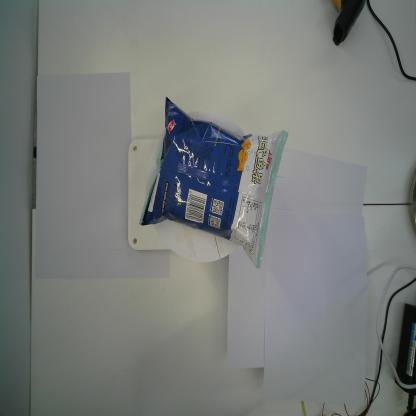Puffed Food: (139, 96, 288, 268)
